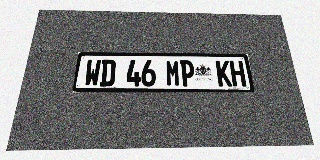4: (126, 60, 141, 86)
6: (141, 60, 156, 86)
D: (99, 59, 116, 86)
H: (229, 60, 247, 86)
K: (215, 60, 232, 86)
M: (166, 60, 181, 86)
P: (180, 60, 195, 86)
W: (84, 59, 101, 86)
